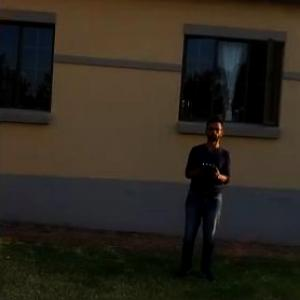follow: (173, 109, 233, 287)
